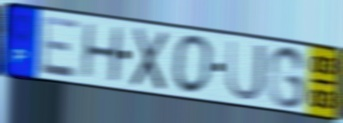E: (39, 13, 82, 80)
G: (265, 44, 309, 110)
H: (79, 22, 124, 85)
O: (171, 33, 215, 97)
U: (226, 37, 267, 103)
X: (129, 24, 171, 93)
